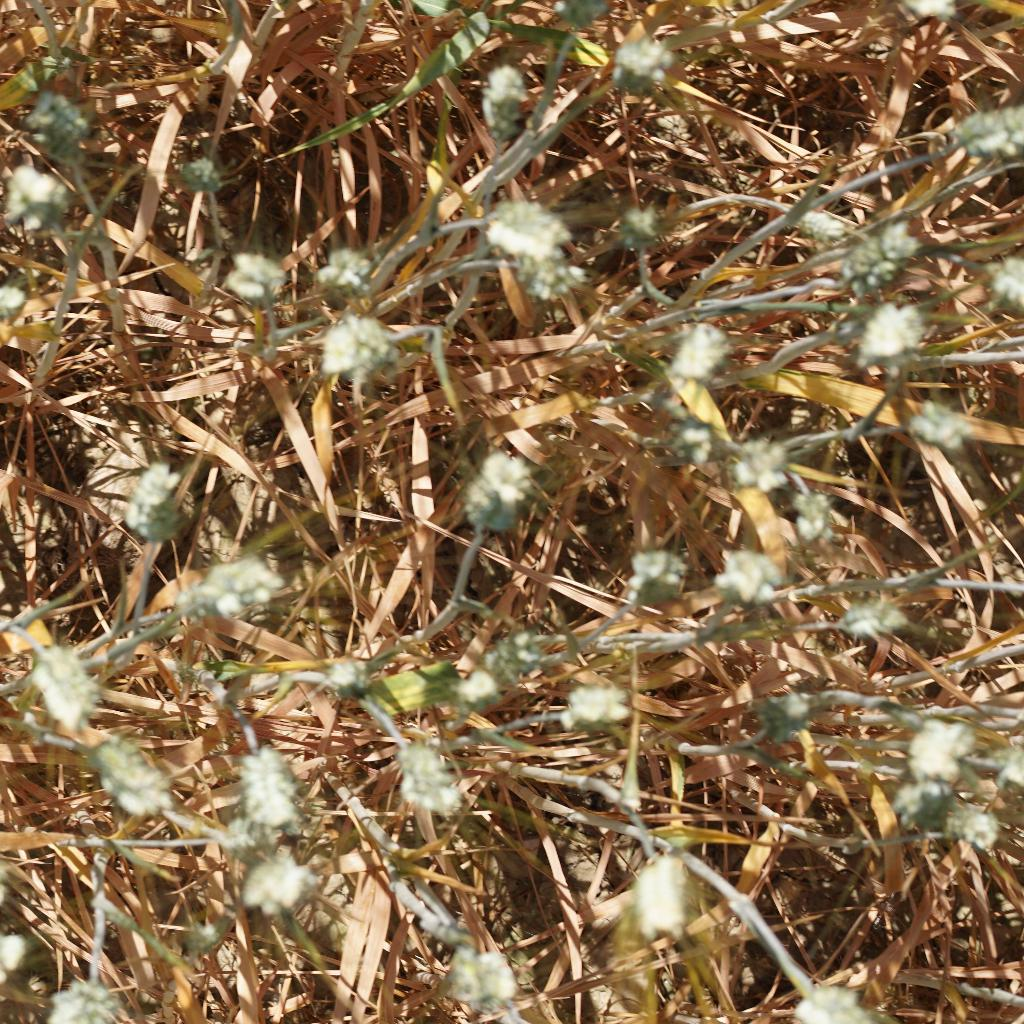0-0: (14, 631, 115, 736), (75, 731, 171, 830), (388, 737, 479, 825), (246, 840, 332, 930), (443, 436, 531, 523), (460, 190, 574, 256), (174, 553, 279, 623), (886, 387, 976, 467), (456, 48, 533, 141), (223, 732, 298, 826), (111, 455, 189, 545), (631, 845, 695, 944), (27, 82, 101, 165), (851, 291, 929, 369), (901, 701, 978, 776), (598, 27, 679, 98), (217, 246, 296, 318), (937, 98, 1024, 160), (658, 318, 731, 391), (443, 935, 515, 1009), (837, 586, 923, 646), (36, 970, 131, 1024), (314, 310, 393, 373), (0, 165, 68, 236), (834, 224, 916, 279), (768, 676, 829, 748), (318, 650, 382, 714), (324, 238, 395, 295), (788, 983, 886, 1024), (661, 403, 724, 466), (714, 552, 783, 609), (500, 249, 579, 298), (623, 533, 681, 598), (784, 486, 845, 546), (736, 434, 792, 496), (892, 770, 950, 828), (552, 683, 626, 727), (965, 251, 1024, 305), (452, 656, 507, 710), (185, 150, 234, 204), (628, 204, 673, 262), (967, 807, 1012, 864)
